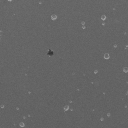corrosion: (45, 48, 55, 58), (100, 13, 107, 22), (103, 52, 110, 60), (63, 104, 70, 112), (50, 14, 57, 21), (19, 121, 26, 128), (122, 66, 128, 72), (93, 68, 98, 75), (80, 21, 86, 26), (113, 43, 118, 49)
